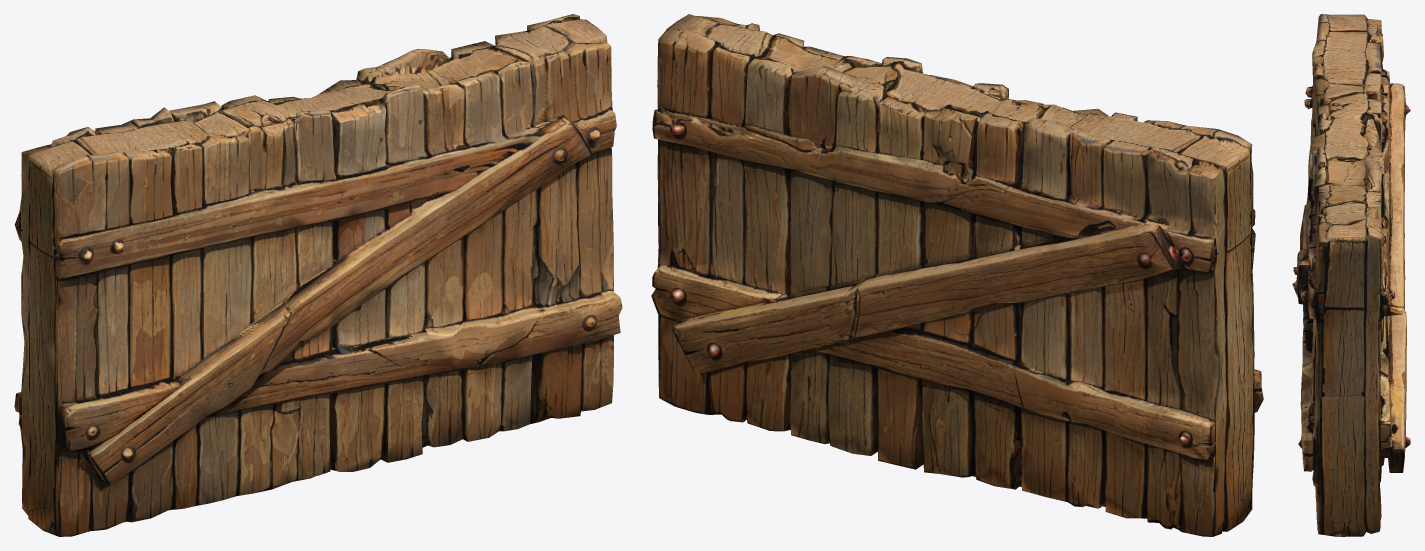
File: Settle_Patch_Planks.fbx
3 views of the same model, side by side, from view 1: azimuth 30°, elevation 25°; view 2: azimuth 150°, elevation 25°; view 3: azimuth 270°, elevation 25° (orthographic). The views are drawn at different scales.
Visible parts, largest first — view 1: texture_mapping; view 2: texture_mapping; view 3: texture_mapping.
Boxes of the visible parts, x1,y1,x2,y2 form: texture_mapping: (14, 14, 622, 536); texture_mapping: (651, 14, 1263, 536); texture_mapping: (1292, 14, 1410, 536).
Size of the model in its own units: 1 by 0.2236 by 0.6466.
Materials: 1 (1 with a texture image).
